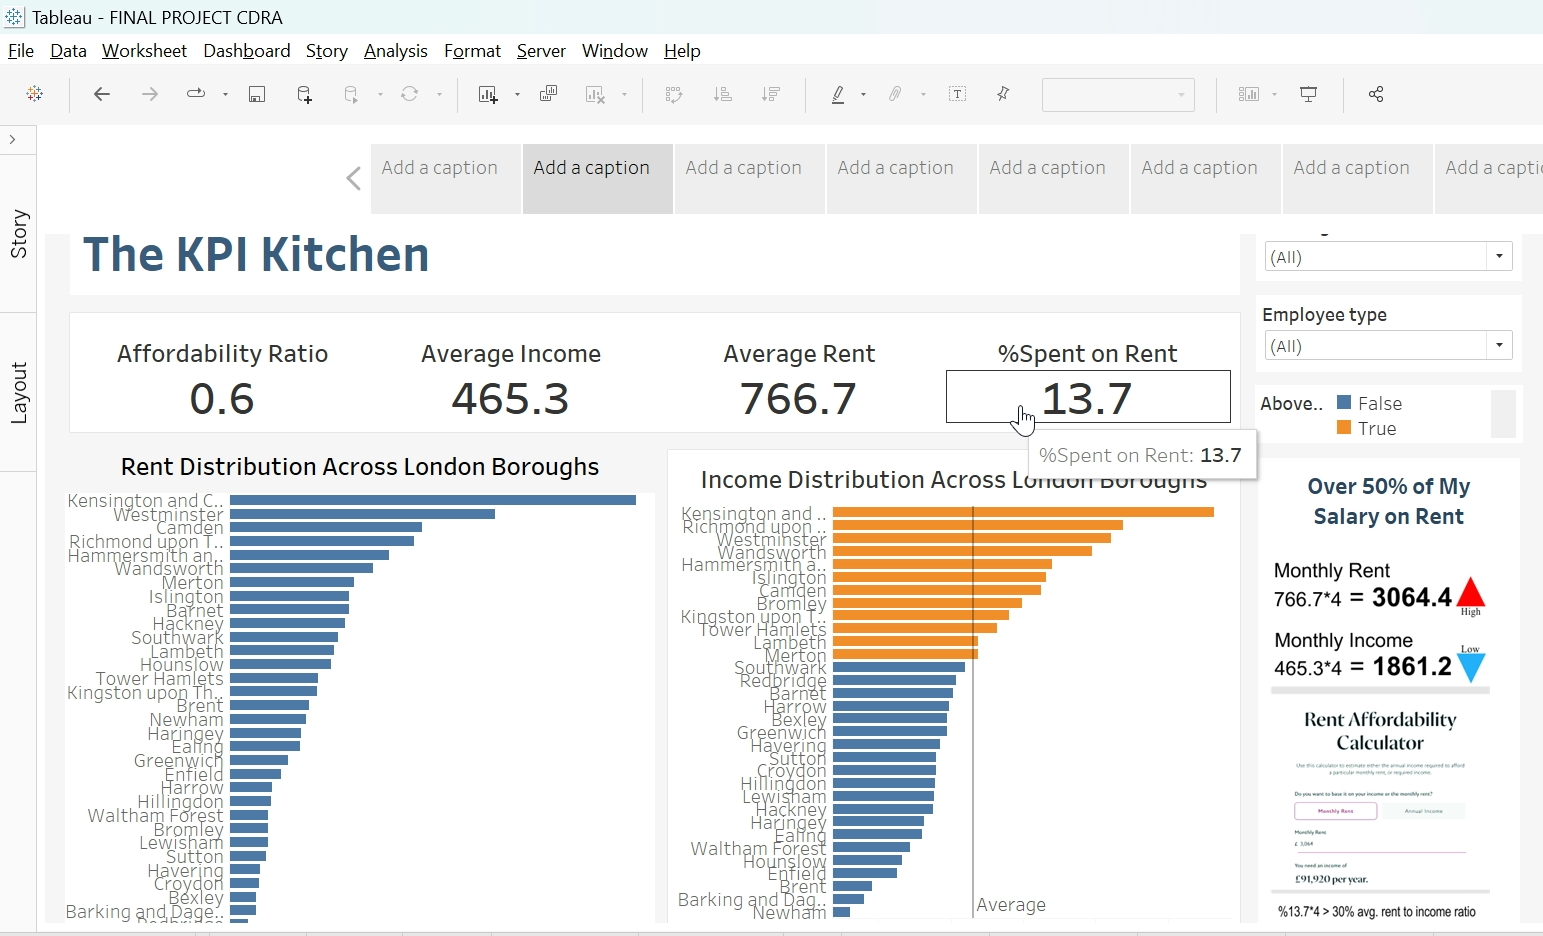

The dashboard page shown, as its layout file describes it:
{"tool":"tableau","page":{"name":"Dashboard 1","canvas":[1500,800],"ordinal":0},"visuals":[{"type":"text","box":[16,16,1188,105]},{"type":"filter","title":"Avg. Income","param":"[federated.0mtfeyj0am8fze13vt68h0kjogjt].[Borough (group)]","box":[1204,16,280,89]},{"type":"filter","title":"Avg. Income","param":"[federated.0mtfeyj0am8fze13vt68h0kjogjt].[none:Table Name:nk]","box":[1204,105,280,91]},{"type":"worksheet","title":"KPIs","mark":"Automatic","box":[16,121,1188,137]},{"type":"legend","title":"Avg. Income","param":"[federated.0mtfeyj0am8fze13vt68h0kjogjt].[usr:Calculation_346777236473798665:nk:","box":[1204,196,280,70]},{"type":"worksheet","title":"Avg, Rent","mark":"Automatic","rows":["Borough"],"cols":["Price_weekly"],"box":[16,258,594,525.8]},{"type":"worksheet","title":"Avg. Income","mark":"Automatic","rows":["Borough"],"cols":["Pay (£)"],"box":[610,258,594,525.8]},{"type":"text","box":[1221,283,246,68]},{"type":"image","param":"C:/Users/Dii/Documents/sheet1.jpg","box":[1221,351,246,416]}]}

Visuals, with their boxes on the page's 1500x800 design canvas (x1, y1, x2, y2). These are canvas units, not pixel positions in the 1543x936 screenshot, which may show the page scaled, cropped or inside an application window:
text: (left=16, top=16, right=1204, bottom=121)
"Avg. Income" filter: (left=1204, top=16, right=1484, bottom=105)
"Avg. Income" filter: (left=1204, top=105, right=1484, bottom=196)
"KPIs" worksheet: (left=16, top=121, right=1204, bottom=258)
"Avg. Income" legend: (left=1204, top=196, right=1484, bottom=266)
"Avg, Rent" worksheet: (left=16, top=258, right=610, bottom=784)
"Avg. Income" worksheet: (left=610, top=258, right=1204, bottom=784)
text: (left=1221, top=283, right=1467, bottom=351)
image: (left=1221, top=351, right=1467, bottom=767)
